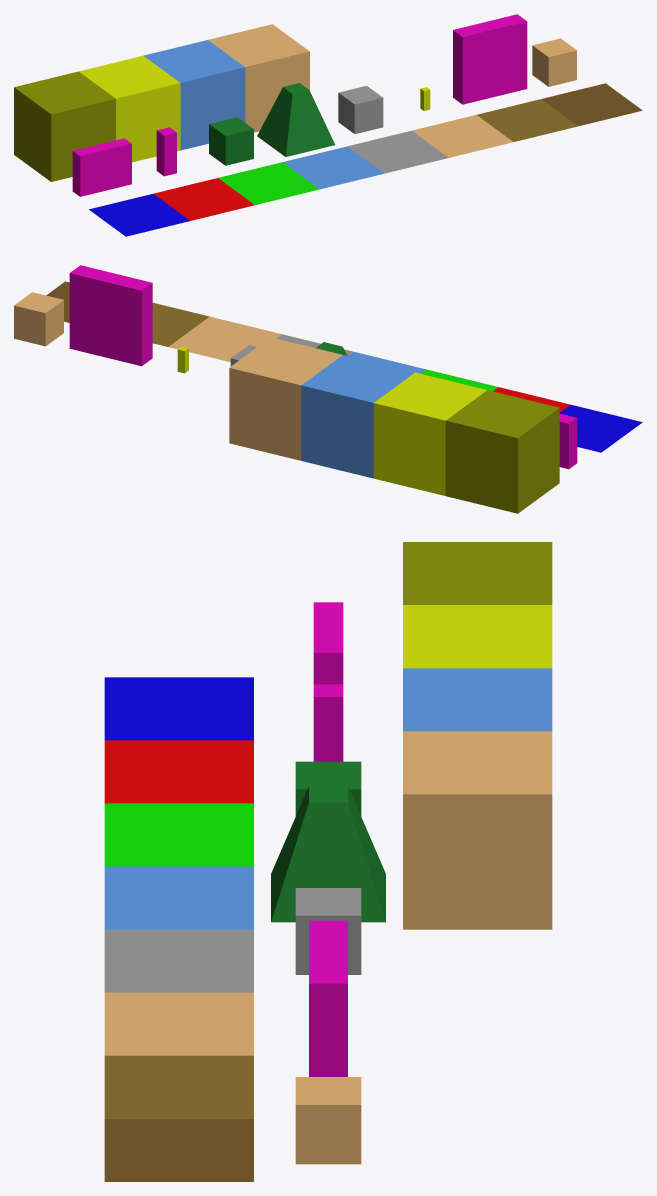
Rendered from Tile.glb.
3 renders of one model, top to bottom at view 1: azimuth 30°, elevation 25°; view 2: azimuth 150°, elevation 25°; view 3: azimuth 270°, elevation 25°, orthographic. The views are drawn at different scales.
Parts seen in each view (by area): view 1: WallExterior, WallWindow, WallInterior.001, Door, WallDoor, Tree, Fence, TileGrass, TileDirtRoad, TileFlooringDoor, TileZoneExit, TileZoneEntry (+7 smaller); view 2: WallExterior, WallInterior.001, WallDoor, WallWindow, Door, TileDirtRoad, Chest, TileZoneEntry, TileFlooring, Fence, TileZoneExit, TileWater (+2 smaller); view 3: WallDoor, Tree, TileGrass, TileZoneExit, TileZoneEntry, TileStoneRoad, TileDirtRoad, TileWater, WallWindow, TileFlooring, WallInterior.001, WallExterior (+7 smaller).
Boxes of the visible parts, x1,y1,x2,y2 form: WallExterior: [14, 71, 115, 181]; WallWindow: [143, 40, 245, 150]; WallInterior.001: [79, 56, 180, 162]; Door: [453, 14, 527, 104]; WallDoor: [208, 24, 309, 132]; Tree: [257, 83, 334, 156]; Fence: [72, 138, 131, 196]; TileGrass: [218, 162, 319, 205]; TileDirtRoad: [412, 115, 513, 157]; TileFlooringDoor: [541, 83, 642, 126]; TileZoneExit: [153, 178, 254, 220]; TileZoneEntry: [89, 194, 189, 236]; WallExterior: [445, 390, 559, 513]; WallInterior.001: [373, 372, 486, 495]; WallDoor: [229, 337, 342, 460]; WallWindow: [301, 355, 414, 478]; Door: [69, 265, 152, 366]; TileDirtRoad: [168, 316, 281, 362]; Chest: [14, 292, 63, 346]; TileZoneEntry: [559, 404, 642, 452]; TileFlooring: [152, 303, 209, 346]; Fence: [559, 413, 577, 469]; TileZoneExit: [493, 387, 570, 412]; TileWater: [348, 352, 425, 373]; WallDoor: [403, 731, 552, 929]; Tree: [271, 785, 385, 922]; TileGrass: [104, 803, 253, 866]; TileZoneExit: [104, 740, 253, 803]; TileZoneEntry: [104, 677, 253, 740]; TileStoneRoad: [104, 929, 253, 992]; TileDirtRoad: [104, 992, 253, 1055]; TileWater: [104, 866, 253, 929]; WallWindow: [403, 668, 552, 731]; TileFlooring: [104, 1055, 253, 1118]; WallInterior.001: [403, 605, 552, 668]; WallExterior: [403, 542, 552, 604].
Size of the model in its own units: 8 by 1 by 3.
